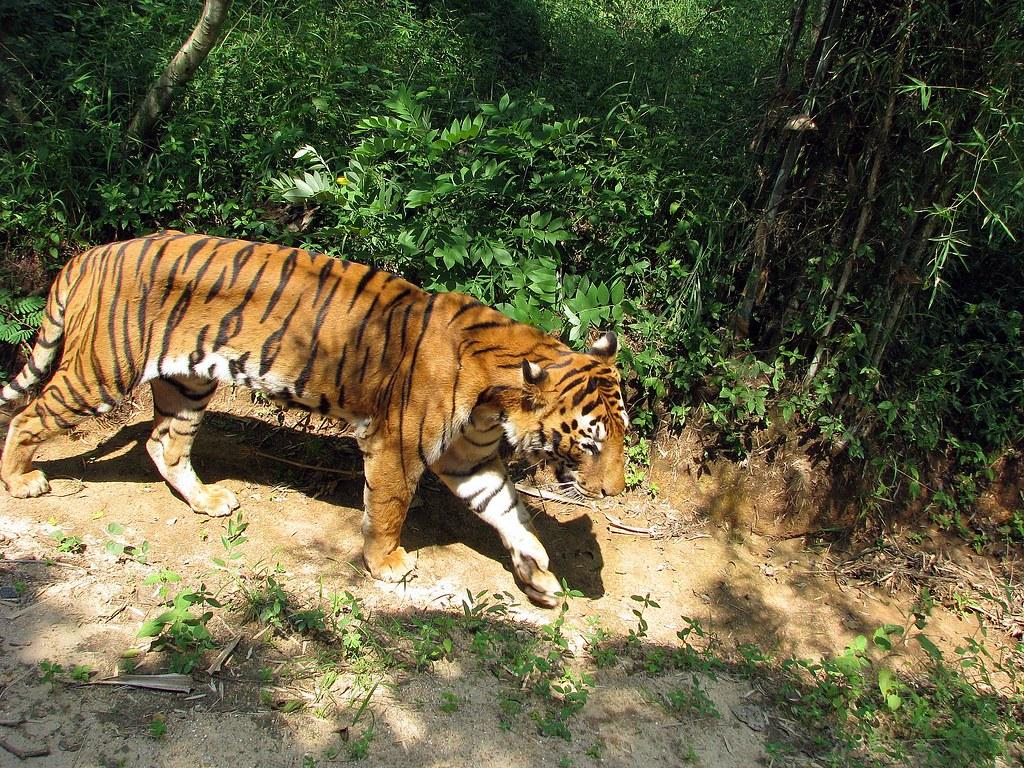tiger: (1, 227, 631, 610)
